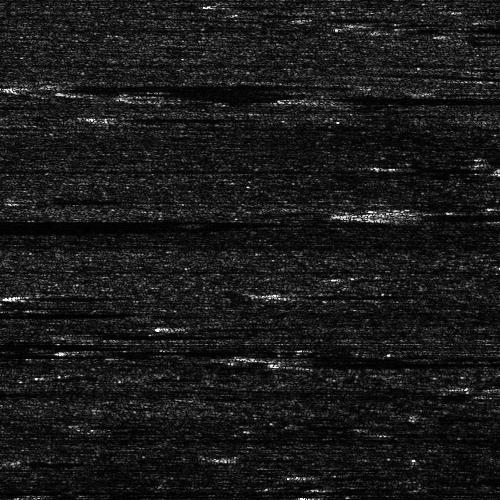object: (259, 206, 498, 225), (51, 83, 218, 104), (0, 77, 179, 94), (235, 358, 328, 371), (262, 91, 377, 100), (213, 289, 328, 298), (87, 104, 128, 125), (29, 329, 122, 336), (468, 384, 500, 397), (288, 494, 361, 499), (6, 292, 69, 297), (179, 454, 242, 459), (152, 324, 205, 329)
shadow: (0, 343, 334, 362), (0, 209, 169, 242), (65, 77, 324, 94), (0, 337, 221, 356), (135, 83, 293, 104), (107, 104, 263, 125), (379, 206, 500, 225), (319, 91, 500, 100), (282, 358, 398, 371), (76, 329, 237, 336), (271, 289, 383, 298), (0, 308, 110, 315), (324, 494, 457, 499), (211, 454, 335, 459), (179, 324, 290, 329), (38, 292, 143, 297), (0, 386, 27, 397)
